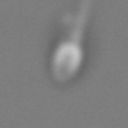abnormal: (60, 1, 92, 39)
